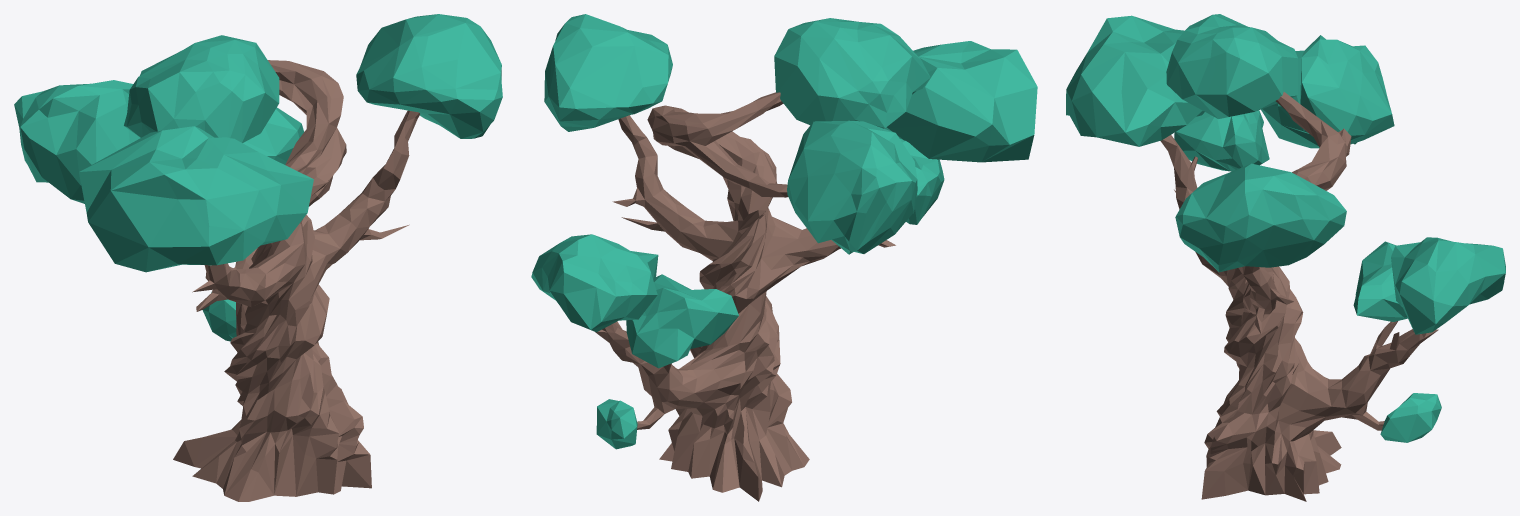
Rendered from fantasy_plant_044.fbx.
The picture shows the model from 3 angles, left to right: view 1: azimuth 30°, elevation 25°; view 2: azimuth 150°, elevation 25°; view 3: azimuth 270°, elevation 25°; orthographic projection. The views are drawn at different scales.
Visible parts, largest first — view 1: fantasy_plant.044; view 2: fantasy_plant.044; view 3: fantasy_plant.044.
Boxes of the visible parts, x1=… form: fantasy_plant.044: x1=14, y1=14, x2=502, y2=501; fantasy_plant.044: x1=531, y1=14, x2=1037, y2=501; fantasy_plant.044: x1=1066, y1=14, x2=1505, y2=501.
Bounding box in the file's own units: 1567 × 1522 × 1478.
Materials: 1 (1 with a texture image).
